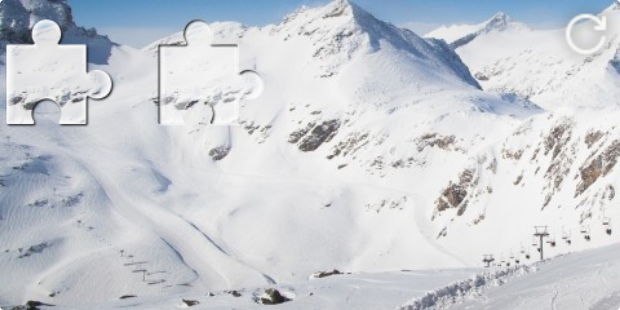target: (159, 20, 264, 125)
